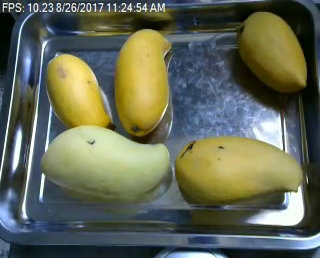Mango: (38, 124, 170, 199), (175, 137, 303, 204), (114, 28, 173, 135), (238, 12, 306, 92), (45, 52, 110, 129)
